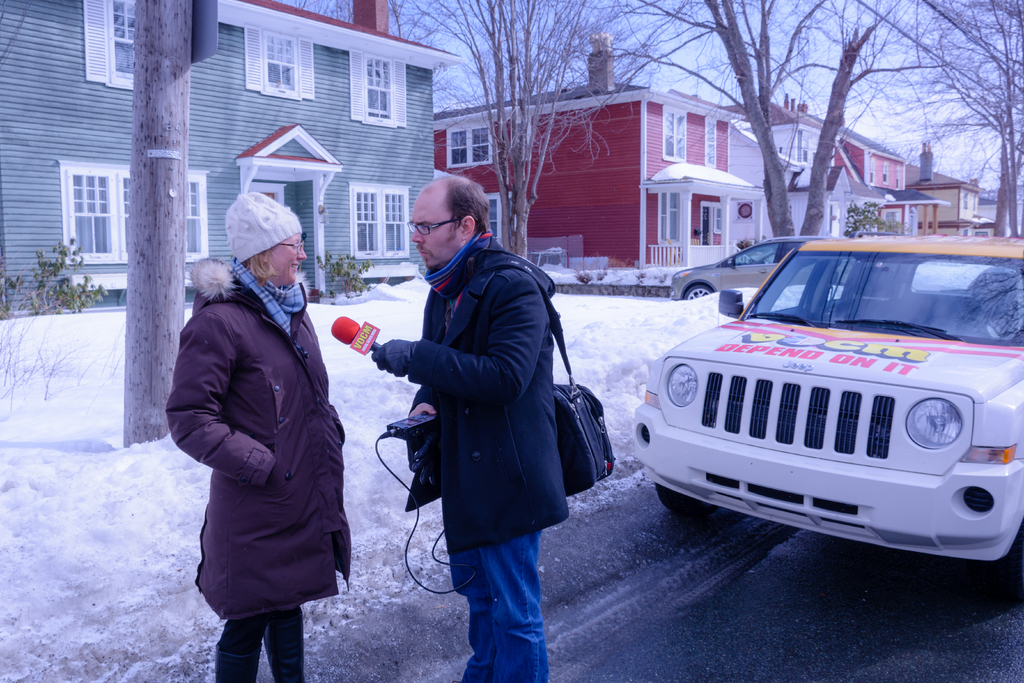Tree: (293, 0, 668, 262), (566, 0, 957, 237), (848, 0, 1023, 235)
